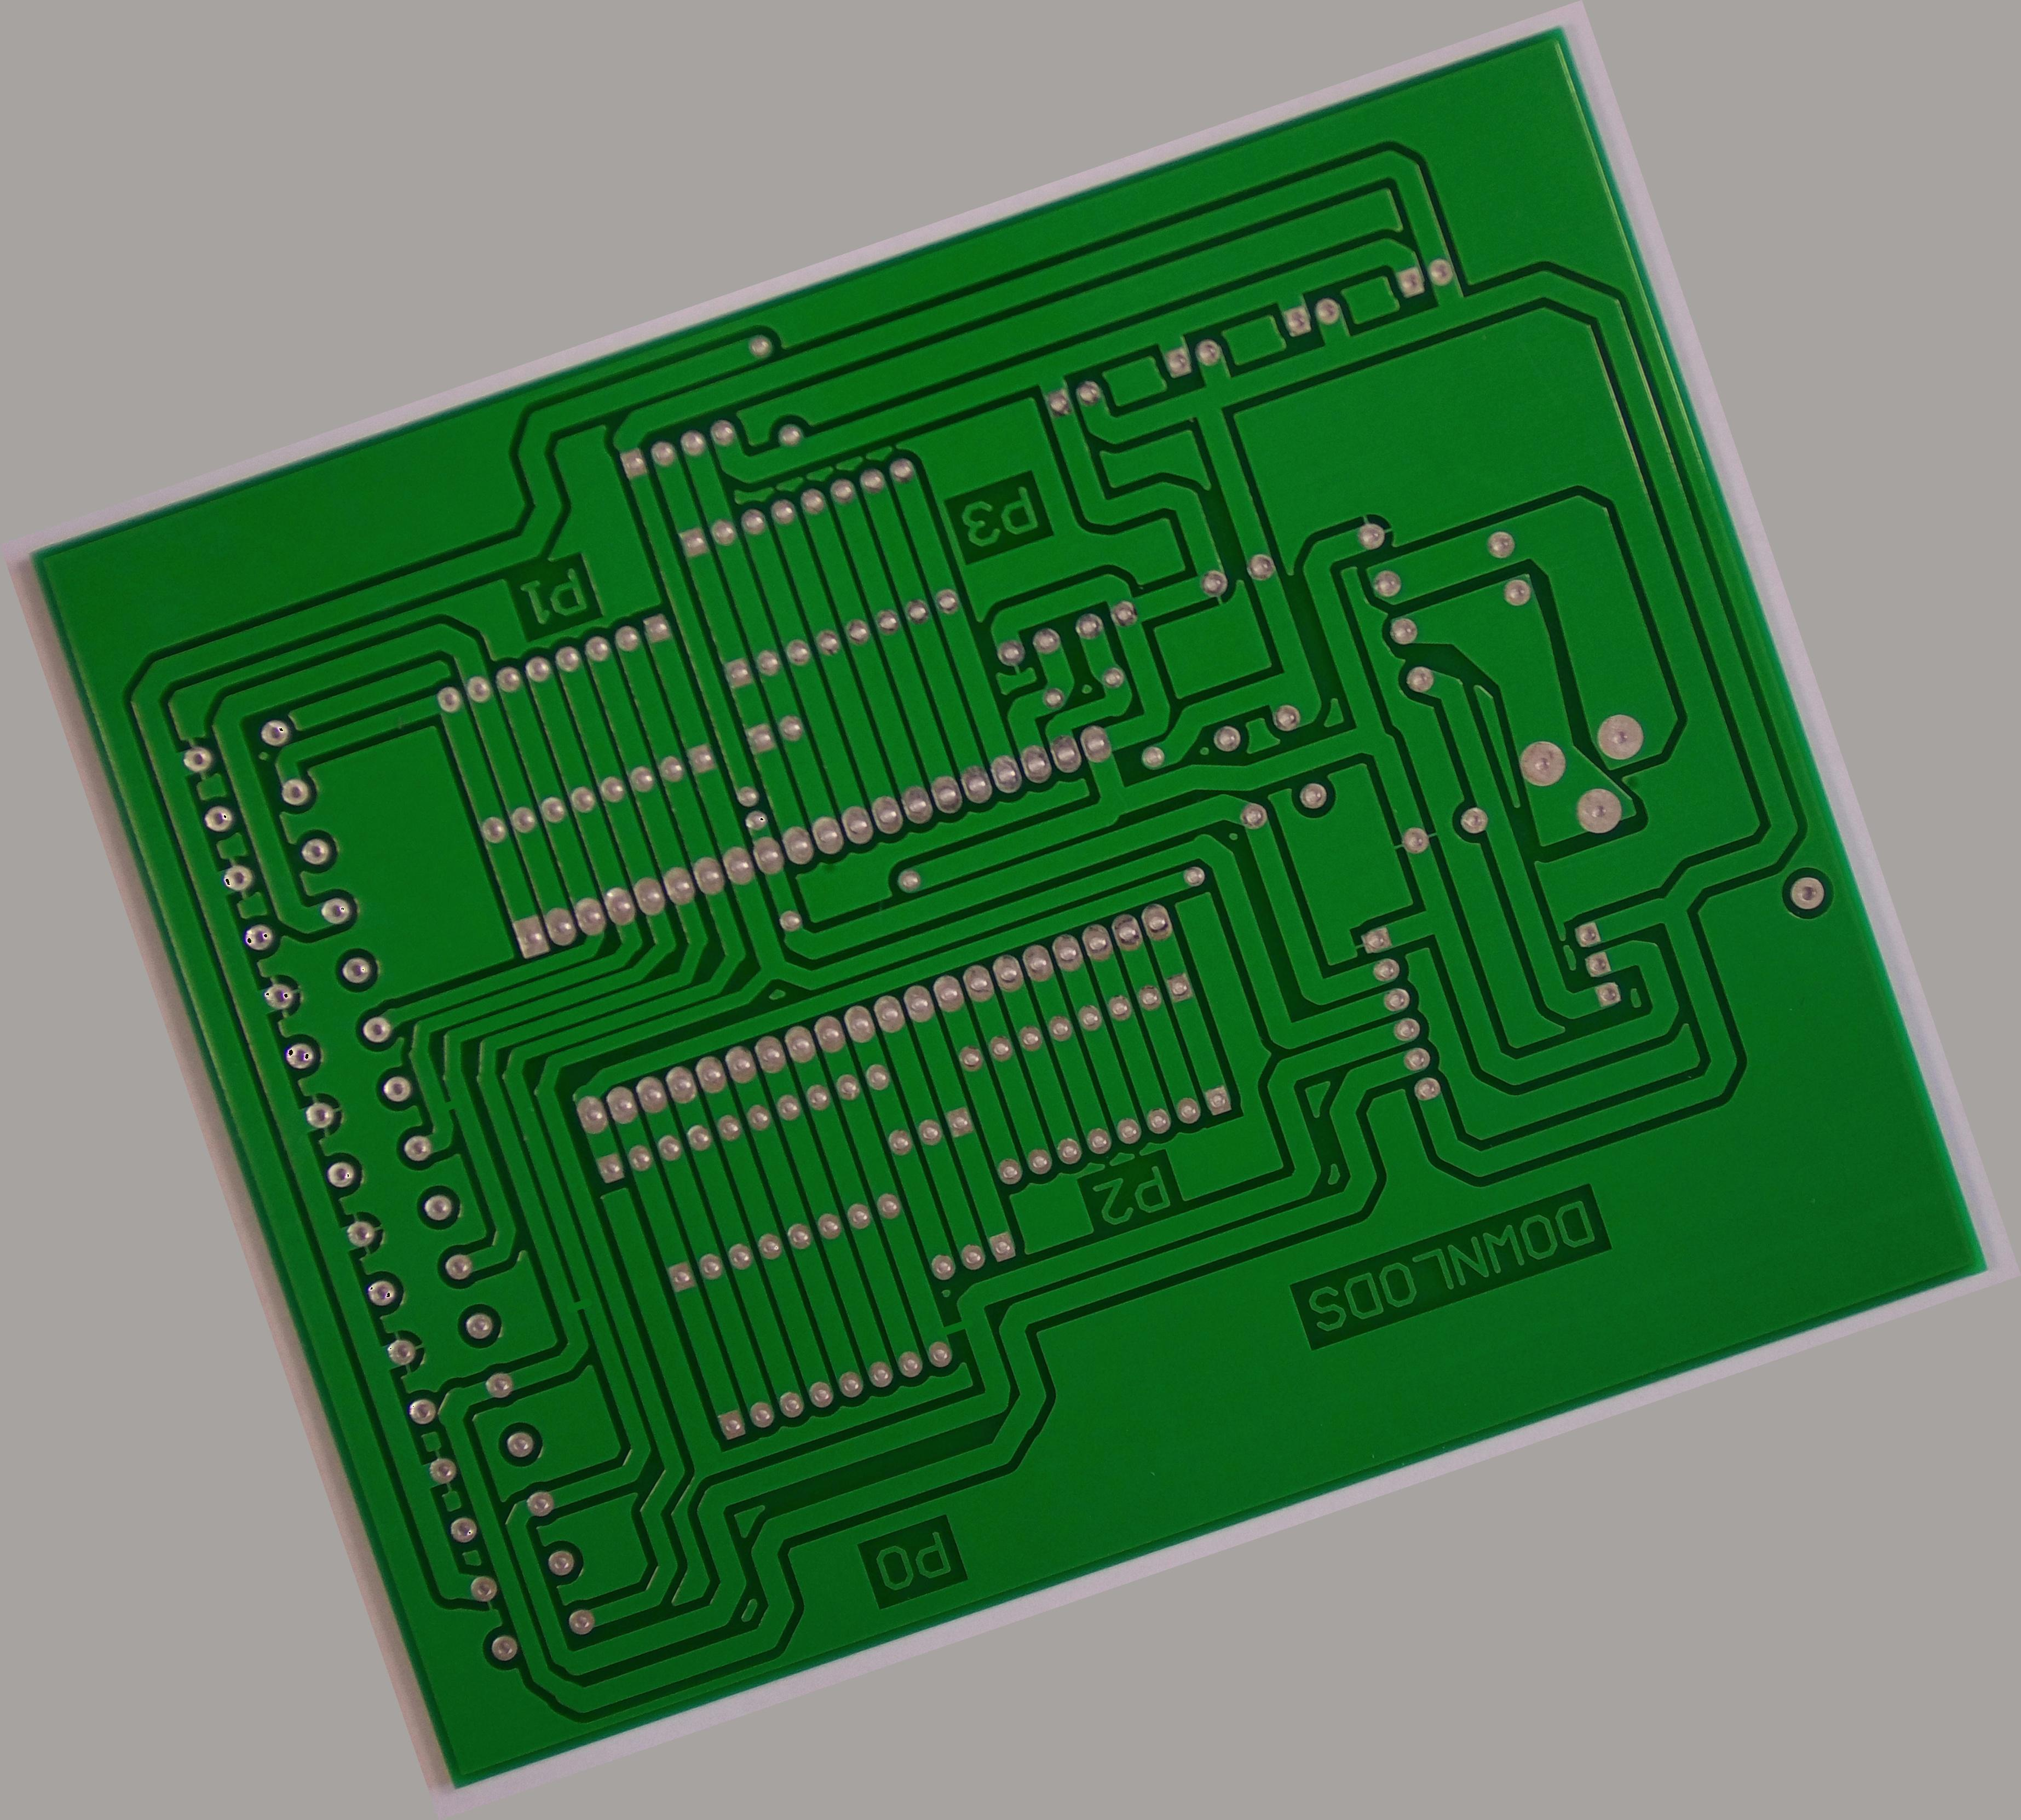short: (916, 1286, 995, 1367), (543, 1268, 613, 1344), (415, 1073, 485, 1142)
